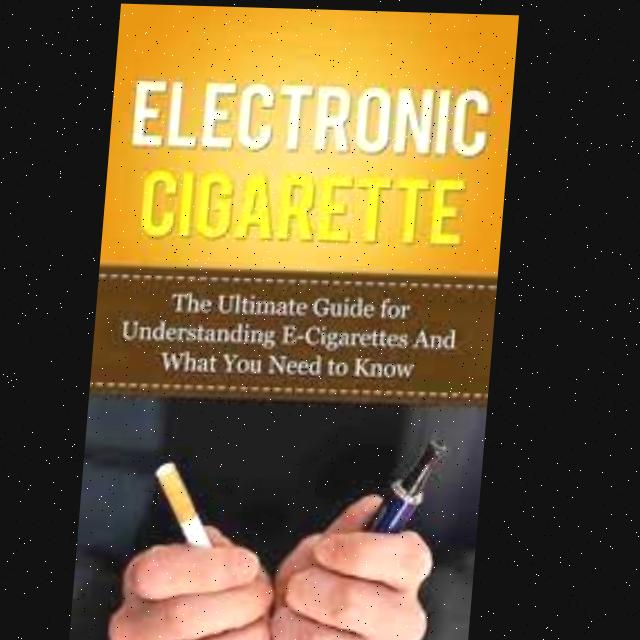cigarette: (158, 461, 228, 547)
vape: (378, 430, 460, 531)
